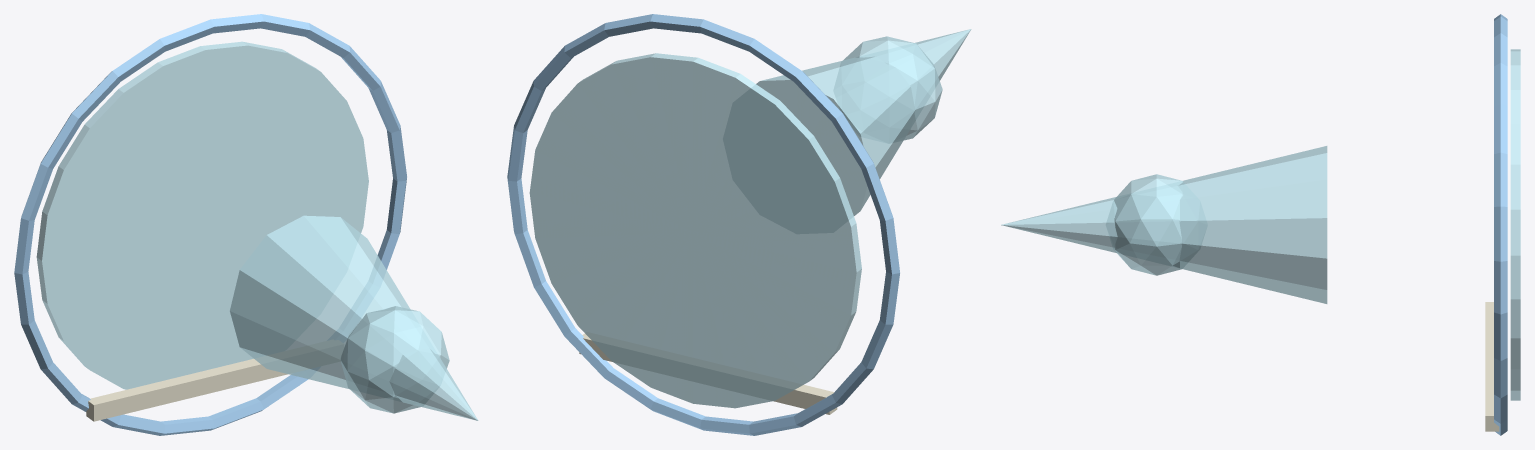
The model's file is 01_ability_vfx_module.glb.
3 renders of one model, left to right at view 1: azimuth 30°, elevation 25°; view 2: azimuth 150°, elevation 25°; view 3: azimuth 270°, elevation 25°, orthographic. The views are drawn at different scales.
Parts seen in each view (by area): view 1: ability_ground_disc, ability_energy_cone, ability_timing_ring, ability_core, directional_flow_mark; view 2: ability_ground_disc, ability_timing_ring, ability_energy_cone, directional_flow_mark, ability_core; view 3: ability_energy_cone, ability_core, ability_timing_ring, ability_ground_disc, directional_flow_mark.
Boxes of the visible parts, bbox=[...] form: ability_ground_disc: bbox=[36, 41, 368, 389]; ability_energy_cone: bbox=[230, 215, 478, 420]; ability_timing_ring: bbox=[14, 14, 406, 435]; ability_core: bbox=[340, 306, 449, 413]; directional_flow_mark: bbox=[86, 340, 343, 421]; ability_ground_disc: bbox=[529, 53, 861, 408]; ability_timing_ring: bbox=[507, 14, 899, 435]; ability_energy_cone: bbox=[756, 29, 971, 215]; directional_flow_mark: bbox=[579, 332, 837, 414]; ability_core: bbox=[843, 36, 942, 140]; ability_energy_cone: bbox=[1001, 146, 1327, 303]; ability_core: bbox=[1114, 174, 1183, 275]; ability_timing_ring: bbox=[1494, 14, 1507, 435]; ability_ground_disc: bbox=[1510, 49, 1520, 400]; directional_flow_mark: bbox=[1485, 302, 1499, 431].
Bounding box in the file's own units: 1.49 × 1.49 × 1.83.
